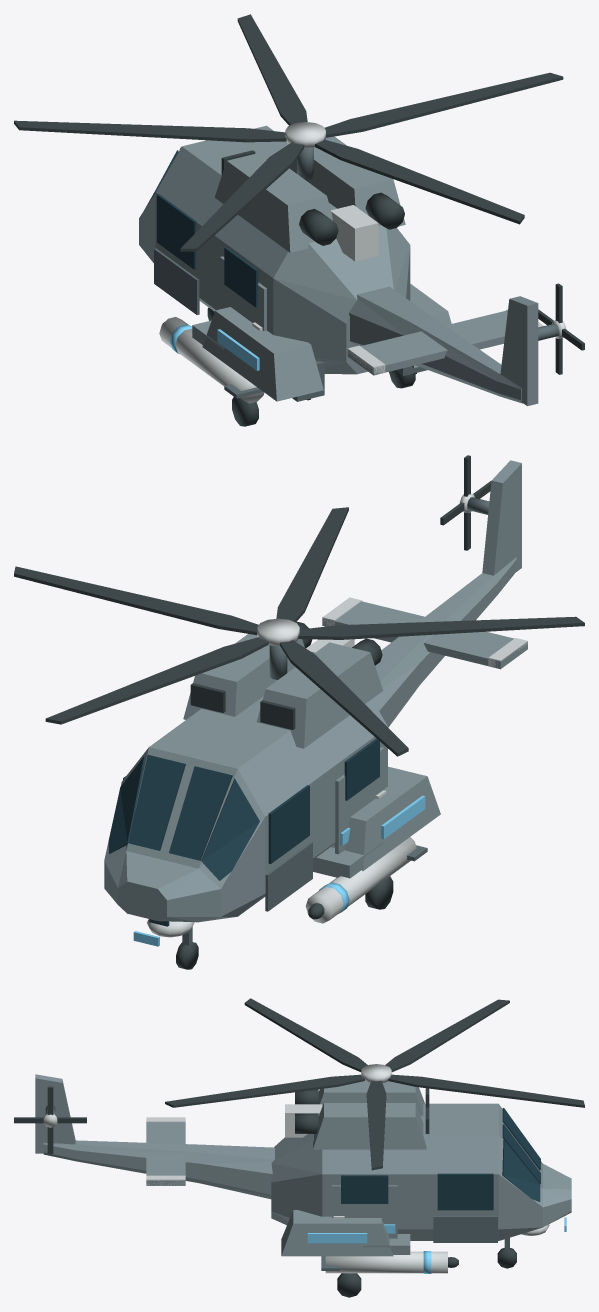
The model's file is HEL_PlayerAsw_T3.fbx.
3 views of the same model, one above another, from view 1: azimuth 30°, elevation 25°; view 2: azimuth 150°, elevation 25°; view 3: azimuth 270°, elevation 25° (orthographic). The views are drawn at different scales.
Visible parts, largest first — view 1: NavalCabin, TailBoom, NavalSponson, TwinEngineCowling, HorizontalTailplane, MainRotorBlade_03, TailFin, TwinEngineCowling.001, MainRotorBlade_01, MainRotorBlade_05, MainRotorBlade_04, MainRotorBlade_02 (+13 smaller); view 2: NavalCabin, TailBoom, TwinEngineCowling, NavalSponson, HorizontalTailplane, MainRotorBlade_04, TailFin, MainRotorBlade_01, MainRotorBlade_02, ForwardWindshield, ForwardWindshield.001, TwinEngineCowling.001 (+14 smaller); view 3: NavalCabin, TailBoom, TwinEngineCowling.001, NavalSponson.001, AirDroppedTorpedo.001, PilotSideWindow.001, HorizontalTailplane, MainRotorBlade_05, TailFin, MainRotorBlade_02, PilotDoorLower.001, TwinEngineCowling (+14 smaller).
Part boxes in pixels (x1=…): NavalCabin: x1=139, y1=125, x2=410, y2=374; TailBoom: x1=349, y1=286, x2=523, y2=403; NavalSponson: x1=202, y1=307, x2=323, y2=401; TwinEngineCowling: x1=214, y1=151, x2=332, y2=252; HorizontalTailplane: x1=347, y1=310, x2=507, y2=375; MainRotorBlade_03: x1=14, y1=120, x2=286, y2=142; TailFin: x1=500, y1=296, x2=538, y2=406; TwinEngineCowling.001: x1=289, y1=136, x2=405, y2=226; MainRotorBlade_01: x1=324, y1=72, x2=563, y2=137; MainRotorBlade_05: x1=315, y1=139, x2=524, y2=224; MainRotorBlade_04: x1=180, y1=142, x2=304, y2=251; MainRotorBlade_02: x1=237, y1=14, x2=307, y2=125; NavalCabin: x1=104, y1=696, x2=387, y2=922; TailBoom: x1=372, y1=557, x2=516, y2=727; TwinEngineCowling: x1=257, y1=642, x2=383, y2=748; NavalSponson: x1=331, y1=767, x2=440, y2=870; HorizontalTailplane: x1=322, y1=601, x2=527, y2=668; MainRotorBlade_04: x1=298, y1=616, x2=584, y2=639; TailFin: x1=482, y1=460, x2=521, y2=575; MainRotorBlade_01: x1=14, y1=566, x2=258, y2=635; MainRotorBlade_02: x1=45, y1=637, x2=268, y2=724; ForwardWindshield: x1=169, y1=766, x2=232, y2=860; ForwardWindshield.001: x1=128, y1=755, x2=185, y2=850; TwinEngineCowling.001: x1=183, y1=634, x2=304, y2=719; NavalCabin: x1=271, y1=1103, x2=571, y2=1240; TailBoom: x1=43, y1=1140, x2=274, y2=1199; TwinEngineCowling.001: x1=313, y1=1103, x2=426, y2=1149; NavalSponson.001: x1=281, y1=1210, x2=393, y2=1256; AirDroppedTorpedo.001: x1=325, y1=1251, x2=447, y2=1273; PilotSideWindow.001: x1=437, y1=1173, x2=493, y2=1210; HorizontalTailplane: x1=146, y1=1122, x2=185, y2=1185; MainRotorBlade_05: x1=165, y1=1074, x2=364, y2=1107; TailFin: x1=35, y1=1074, x2=75, y2=1153; MainRotorBlade_02: x1=388, y1=1074, x2=584, y2=1107; PilotDoorLower.001: x1=433, y1=1216, x2=497, y2=1242; TwinEngineCowling: x1=318, y1=1081, x2=424, y2=1115.
Size of the model in its own units: 237 by 128 by 336.
